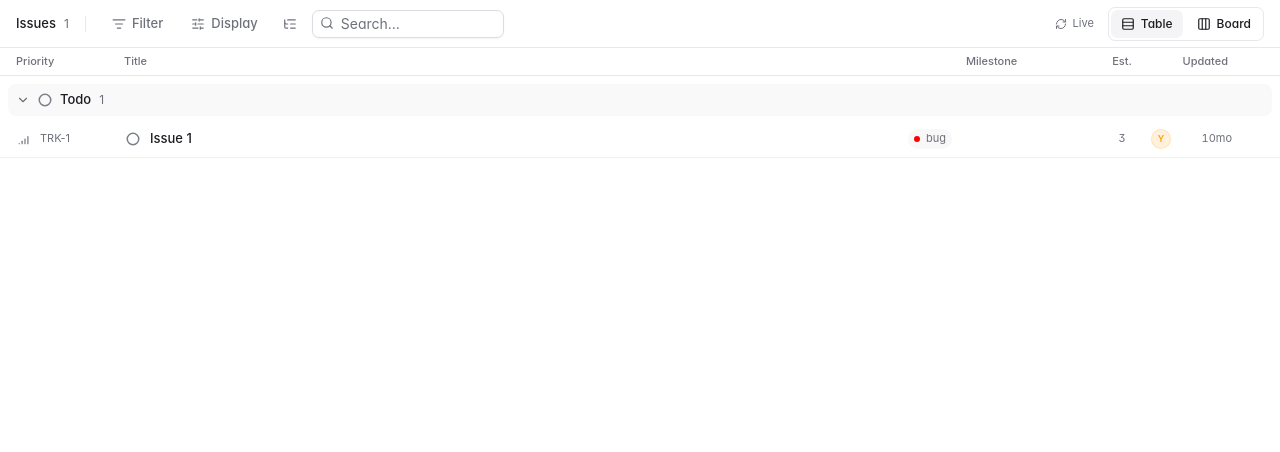
it: context menu on table rows › deletes with an undo notice, and undo brings the row back
The width and height of the screenshot is (1280, 452).
Right-click the element "Issue 1": (640, 139) [0,120,1279,158]
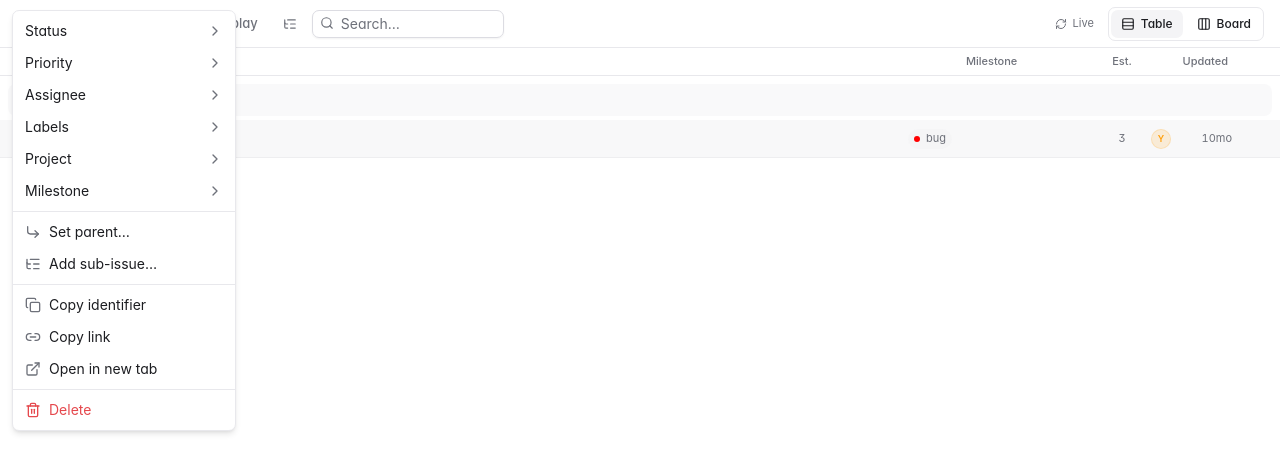
Click the menu item "Delete": (58, 410) [25,401,91,418]
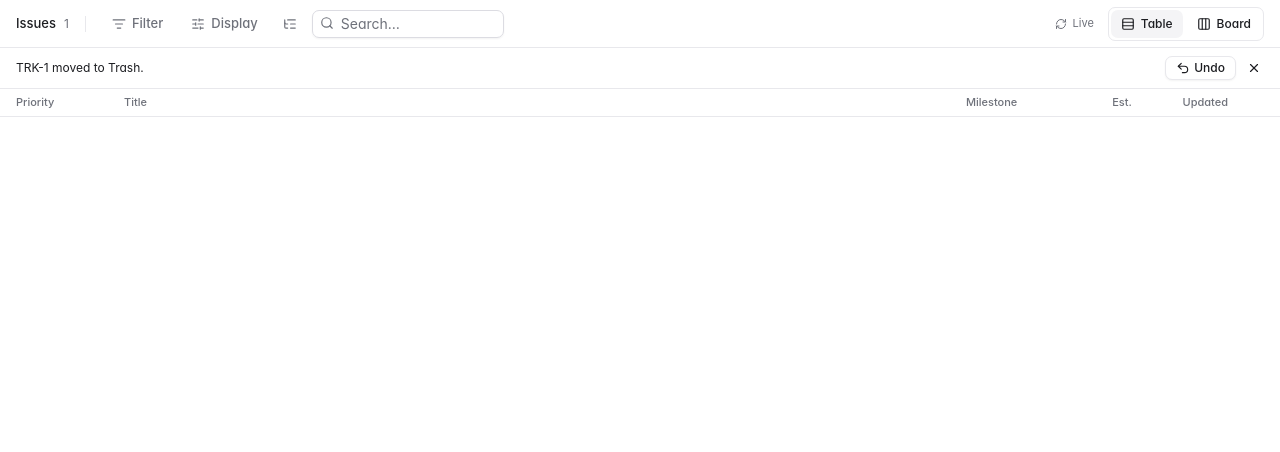
Expected: the link "Issue 1" is not shown
Now the message shows "TRK-1 moved to Trash", box [0,48,1279,89]
Click the button with aria-label "Undo delete of TRK-1": (1201, 68) [1165,56,1236,80]
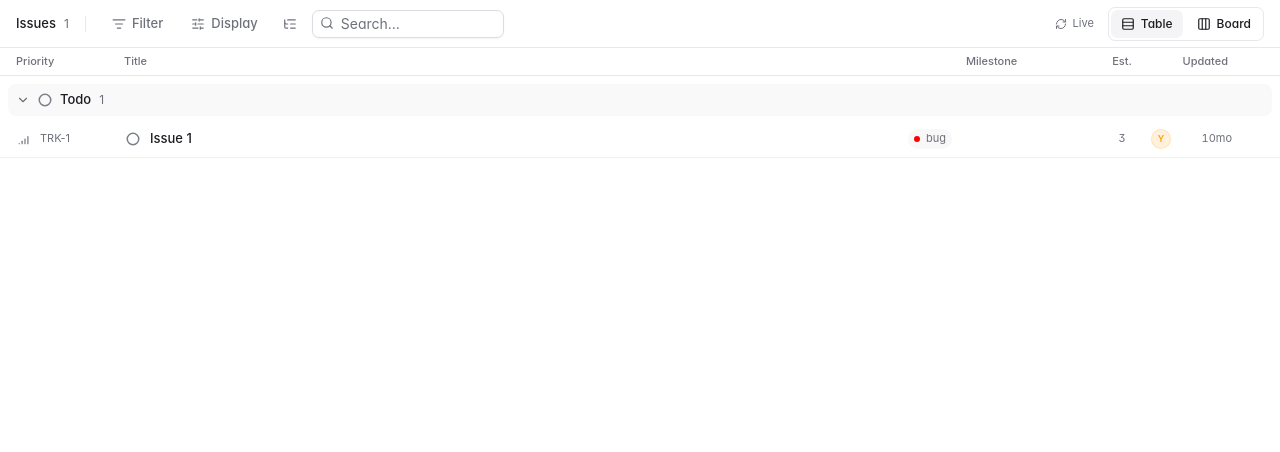
Now the link "Issue 1" is shown, box [150,130,192,146]
